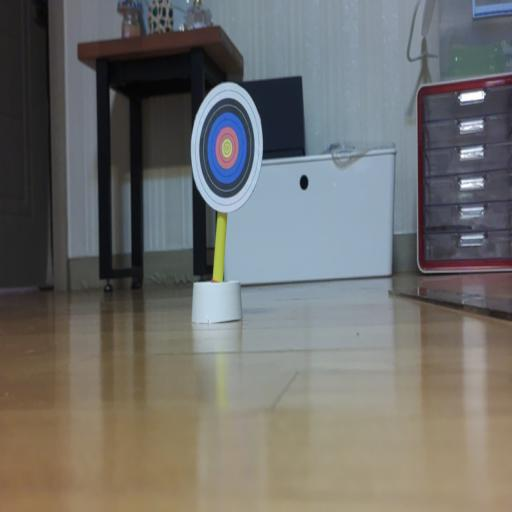target: (191, 83, 262, 212)
